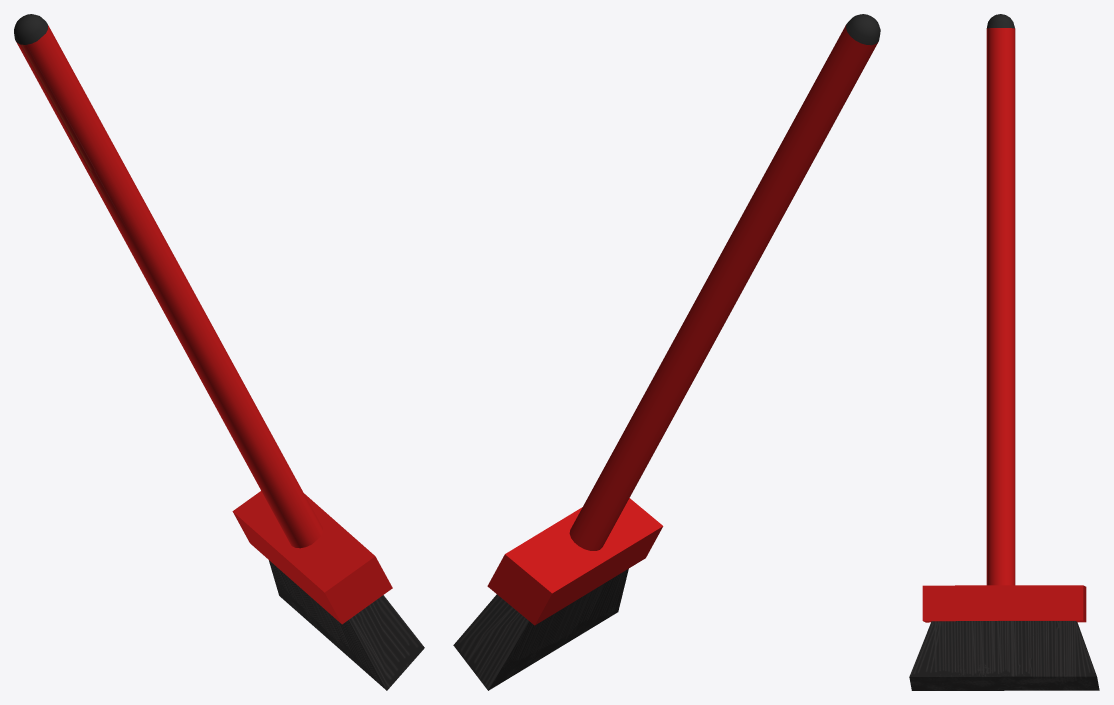
File: Broom.FBX
3 views of the same model, side by side, from view 1: azimuth 30°, elevation 25°; view 2: azimuth 150°, elevation 25°; view 3: azimuth 270°, elevation 25° (orthographic). The views are drawn at different scales.
Parts seen in each view (by area): view 1: Box001; view 2: Box001; view 3: Box001.
Part boxes in pixels (x1,y1,x2,y2): Box001: (14, 14, 424, 690); Box001: (453, 14, 880, 690); Box001: (909, 14, 1099, 690).
Size of the model in its own units: 209 by 390 by 120.
1 material, 1 textured.
